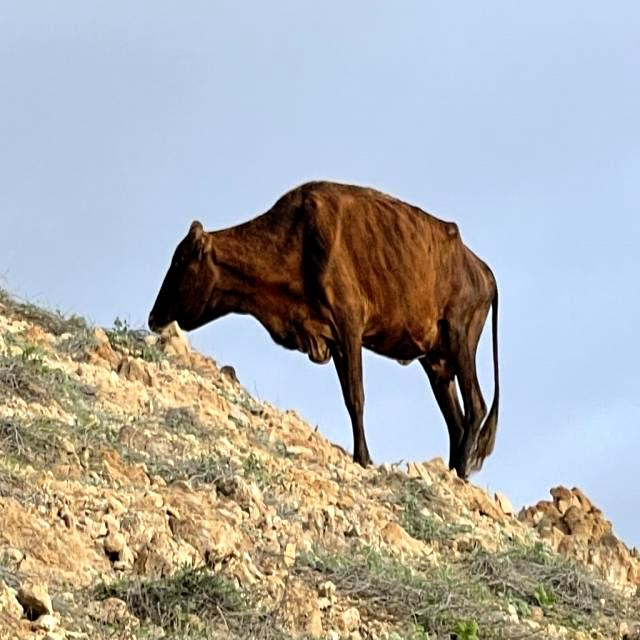COW: (149, 181, 498, 478)
